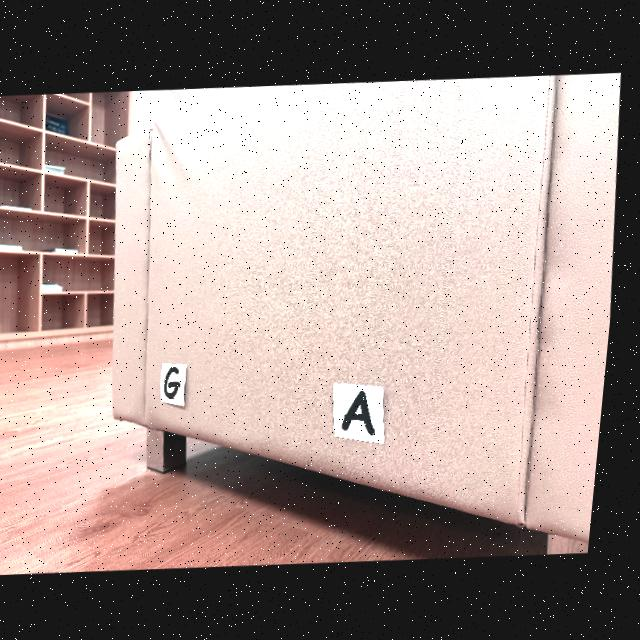A: (351, 390, 382, 433)
G: (172, 367, 187, 397)
